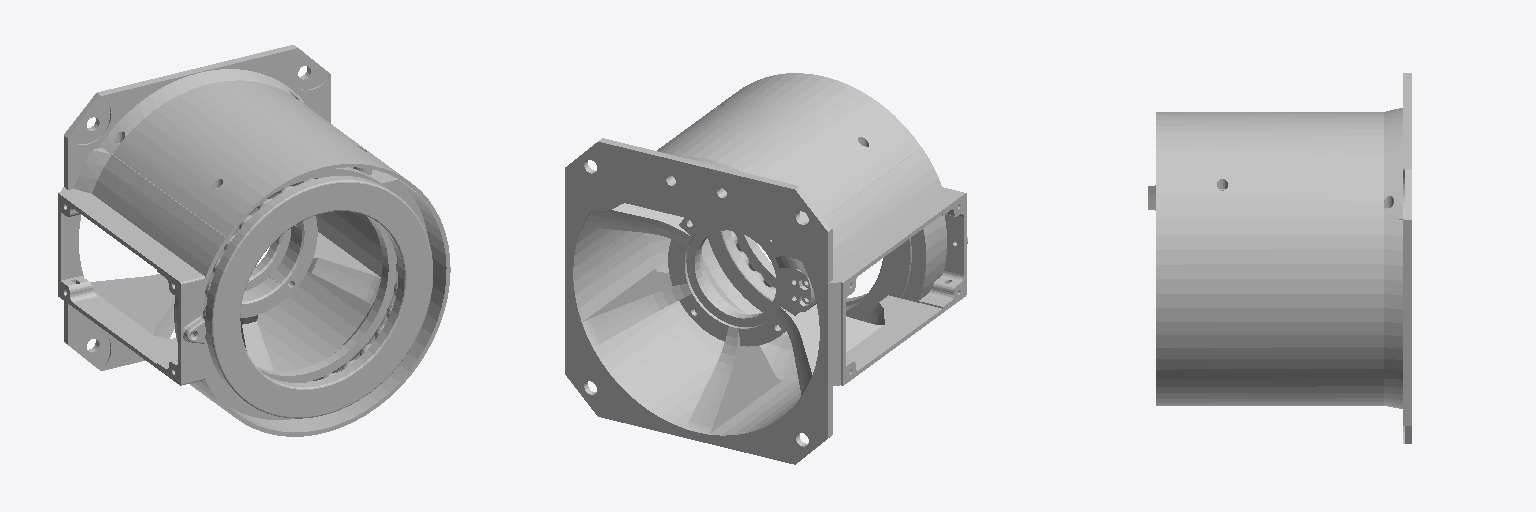
The picture shows the model from 3 angles: view 1: azimuth 30°, elevation 25°; view 2: azimuth 150°, elevation 25°; view 3: azimuth 270°, elevation 25°; orthographic projection.
Visible parts, largest first — view 1: Base_v1; view 2: Base_v1; view 3: Base_v1.
Part boxes in pixels (x1,y1,x2,y2): Base_v1: (58, 45, 450, 436); Base_v1: (565, 73, 967, 464); Base_v1: (1148, 73, 1411, 443).
Size of the model in its own units: 16.65 by 16 by 13.95.